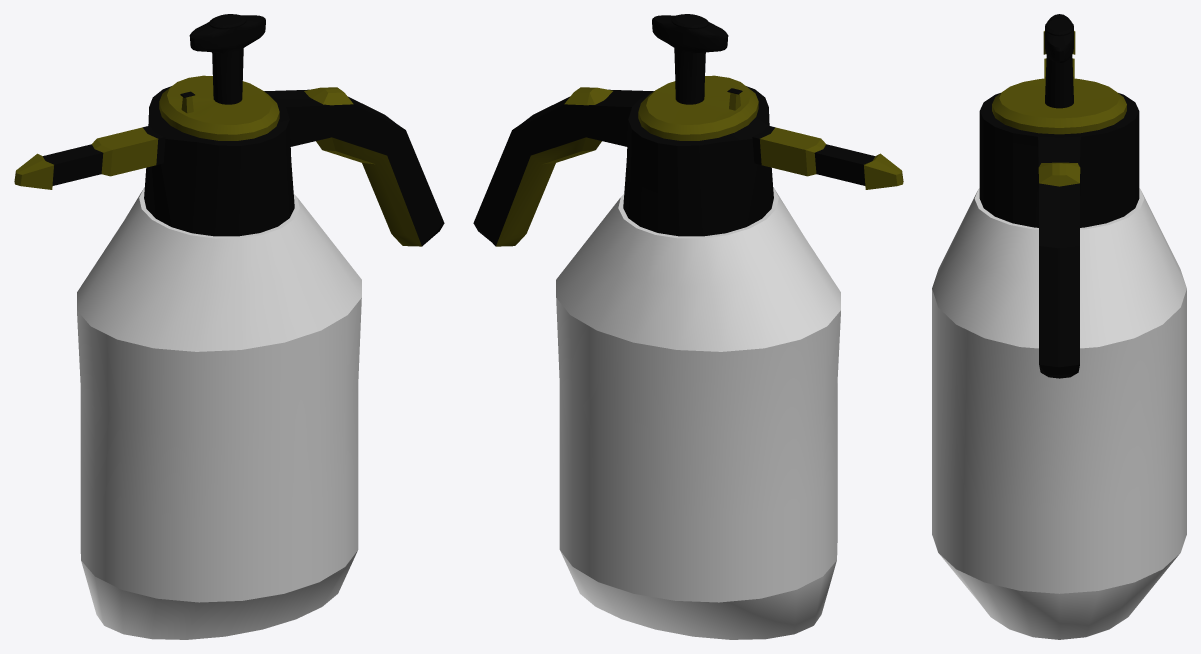
The model's file is Polverizador.fbx.
3 views of the same model, side by side, from view 1: azimuth 30°, elevation 25°; view 2: azimuth 150°, elevation 25°; view 3: azimuth 270°, elevation 25° (orthographic). The views are drawn at different scales.
Visible parts, largest first — view 1: pCylinder1; view 2: pCylinder1; view 3: pCylinder1.
Boxes of the visible parts, left/top/right/bottom form: pCylinder1: left=14, top=14, right=444, bottom=639; pCylinder1: left=473, top=14, right=903, bottom=639; pCylinder1: left=932, top=14, right=1186, bottom=639.
Size of the model in its own units: 4.21 by 5.51 by 2.26.
